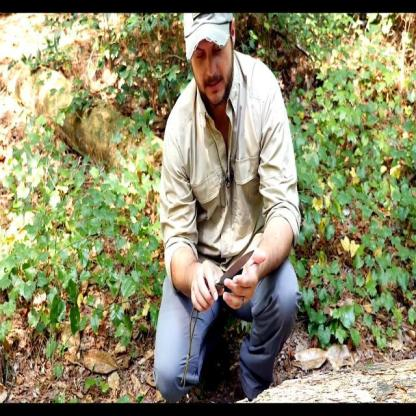Knife: (190, 245, 258, 315)
